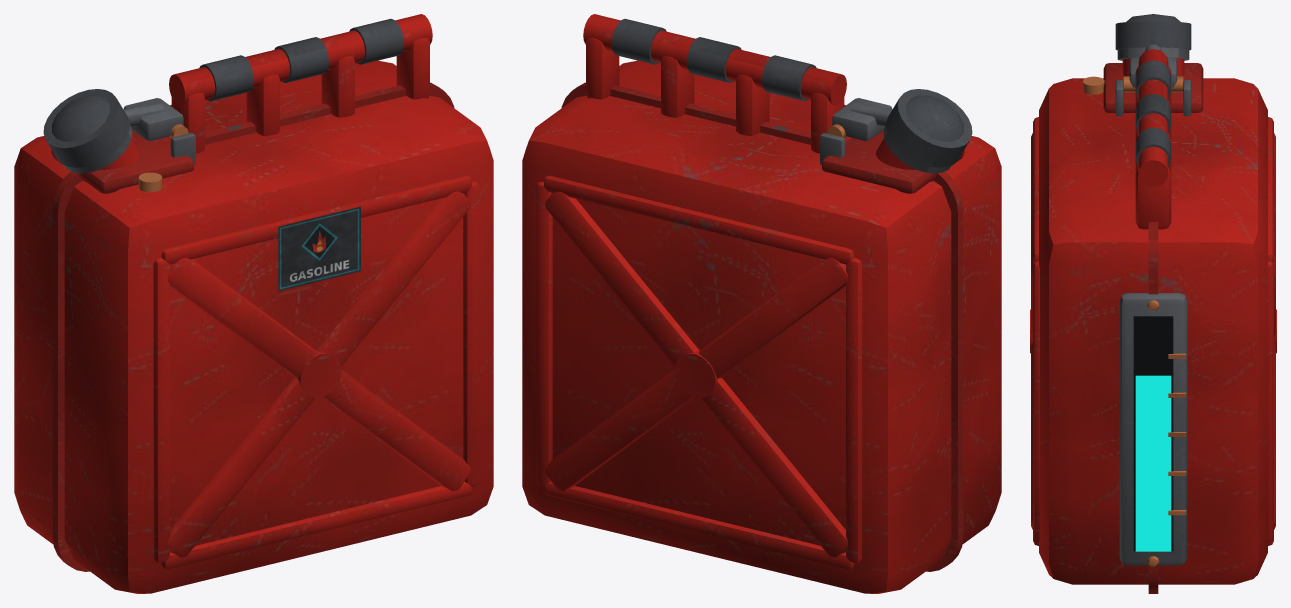
File: gasoline.glb
3 views of the same model, side by side, from view 1: azimuth 30°, elevation 25°; view 2: azimuth 150°, elevation 25°; view 3: azimuth 270°, elevation 25° (orthographic). The views are drawn at different scales.
Parts seen in each view (by area): view 1: Tank; view 2: Tank; view 3: Tank, Level.
Boxes of the visible parts, x1,y1,x2,y2 form: Tank: (14,14,493,593); Tank: (522,14,1001,593); Tank: (1030,14,1276,593); Level: (1135,375,1171,551).
Size of the model in its own units: 0.443 by 0.4845 by 0.248.
Materials: 9 (6 with a texture image).
